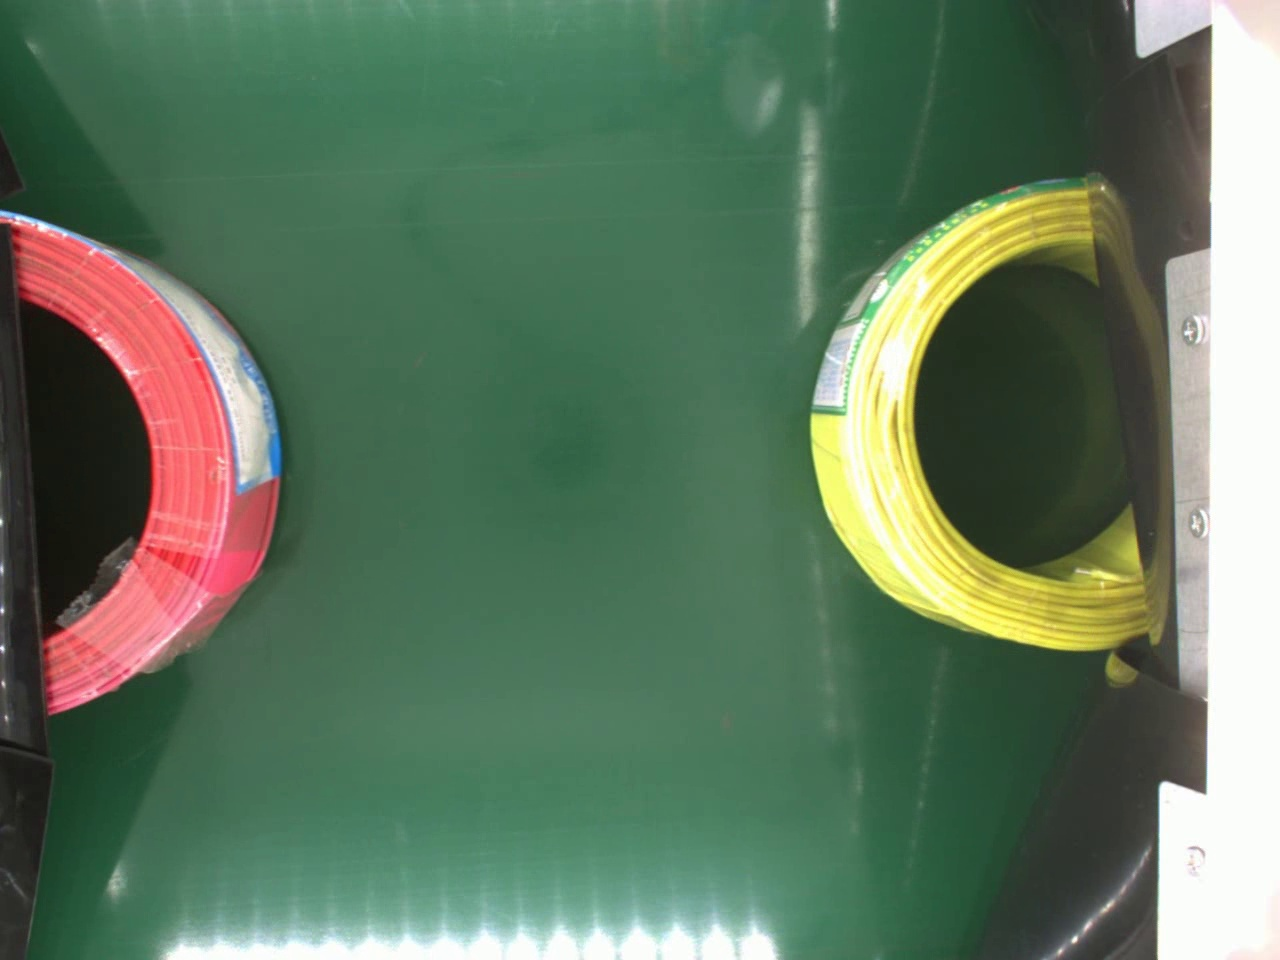red: (4, 201, 283, 718)
yellow: (804, 174, 1150, 659)
